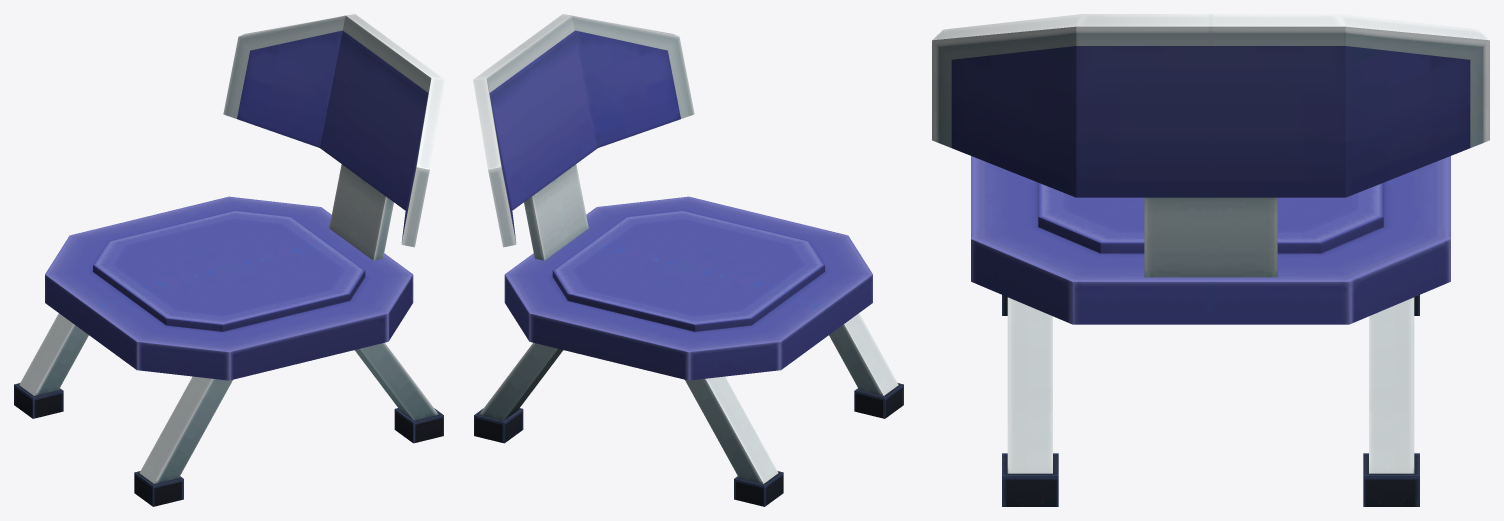
The model's file is my_millenniumlounge_01_chair_03.glb.
3 views of the same model, side by side, from view 1: azimuth 30°, elevation 25°; view 2: azimuth 150°, elevation 25°; view 3: azimuth 270°, elevation 25° (orthographic). The views are drawn at different scales.
Visible parts, largest first — view 1: my_millenniumlounge_01_chair_03; view 2: my_millenniumlounge_01_chair_03; view 3: my_millenniumlounge_01_chair_03.
Part boxes in pixels (x1,y1,x2,y2): my_millenniumlounge_01_chair_03: [14, 14, 444, 506]; my_millenniumlounge_01_chair_03: [473, 14, 903, 506]; my_millenniumlounge_01_chair_03: [932, 14, 1489, 506].
Size of the model in its own units: 0.00433 by 0.00437 by 0.00439.
1 material, 1 textured.
